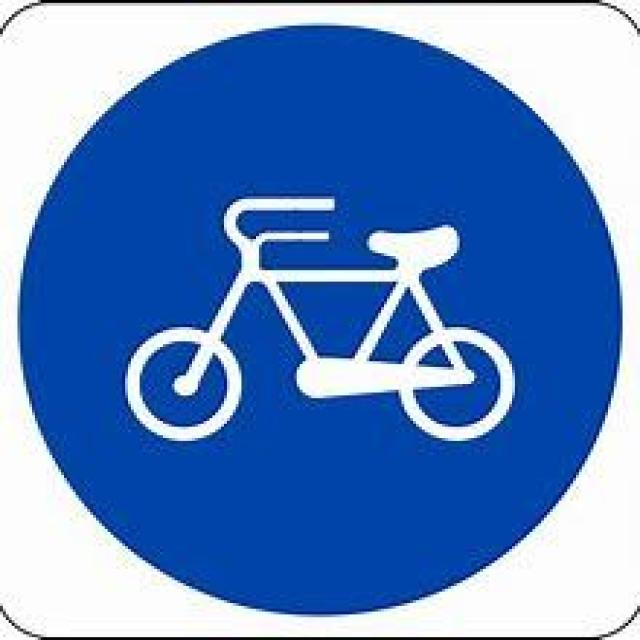COMPULSARY_CYCLE_TRACK: (20, 12, 623, 614)
